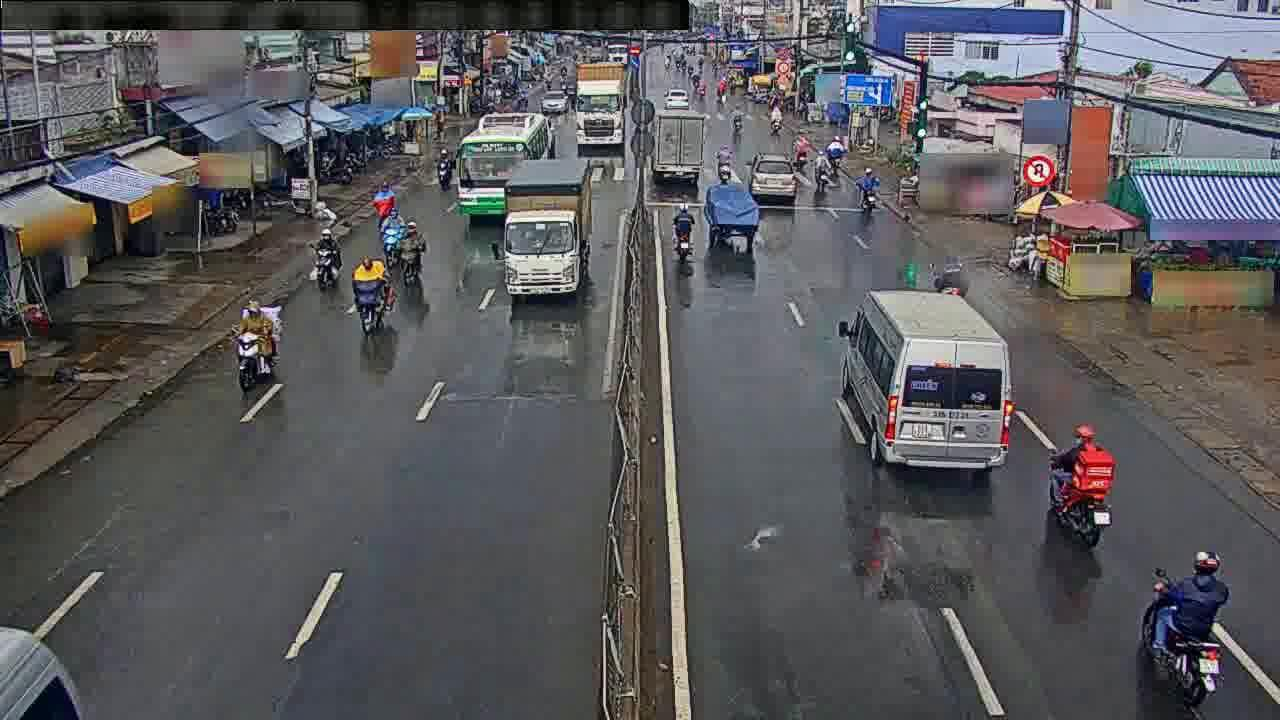car: (840, 293, 1012, 469)
container: (511, 158, 590, 303), (574, 61, 626, 154), (648, 104, 703, 180)
motorbike: (1147, 534, 1252, 697), (1046, 416, 1112, 545), (232, 302, 289, 380), (348, 257, 401, 333), (666, 202, 699, 259), (311, 229, 343, 286), (379, 206, 408, 267), (396, 225, 424, 280), (429, 147, 460, 191), (714, 143, 742, 179), (372, 182, 397, 220), (813, 152, 833, 190), (861, 166, 877, 213), (828, 134, 845, 167), (795, 131, 809, 167)
passenger_car: (456, 113, 549, 217)
